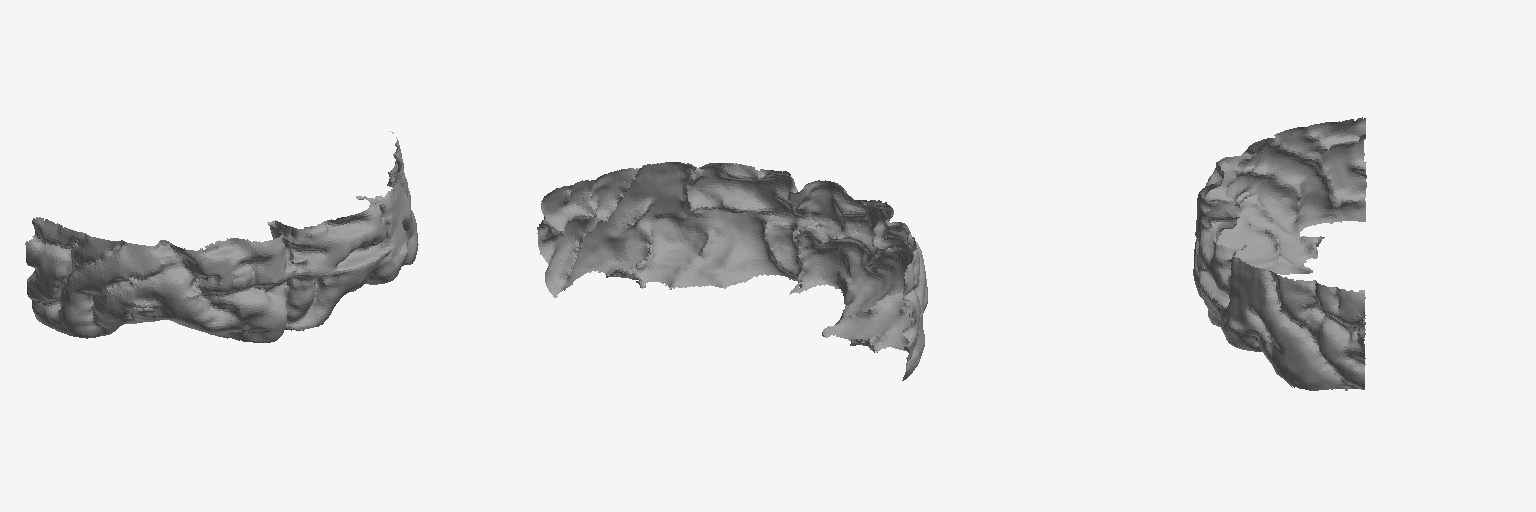
File: cortex_2_0.obj
The picture shows the model from 3 angles: view 1: azimuth 30°, elevation 25°; view 2: azimuth 150°, elevation 25°; view 3: azimuth 270°, elevation 25°; orthographic projection.
Parts seen in each view (by area): view 1: Cortex_2_0_Mehrdad_SagT1_Cortex_v1_No_Smooth_OBJ.000_Mehrdad_Sa; view 2: Cortex_2_0_Mehrdad_SagT1_Cortex_v1_No_Smooth_OBJ.000_Mehrdad_Sa; view 3: Cortex_2_0_Mehrdad_SagT1_Cortex_v1_No_Smooth_OBJ.000_Mehrdad_Sa.
Part boxes in pixels (x1,y1,x2,y2): Cortex_2_0_Mehrdad_SagT1_Cortex_v1_No_Smooth_OBJ.000_Mehrdad_Sa: (25,131,418,342); Cortex_2_0_Mehrdad_SagT1_Cortex_v1_No_Smooth_OBJ.000_Mehrdad_Sa: (537,162,927,380); Cortex_2_0_Mehrdad_SagT1_Cortex_v1_No_Smooth_OBJ.000_Mehrdad_Sa: (1193,117,1366,390).
Bounding box in the file's own units: 105 × 28.06 × 41.89.